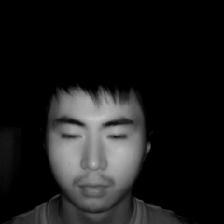normal: (17, 55, 155, 217)
